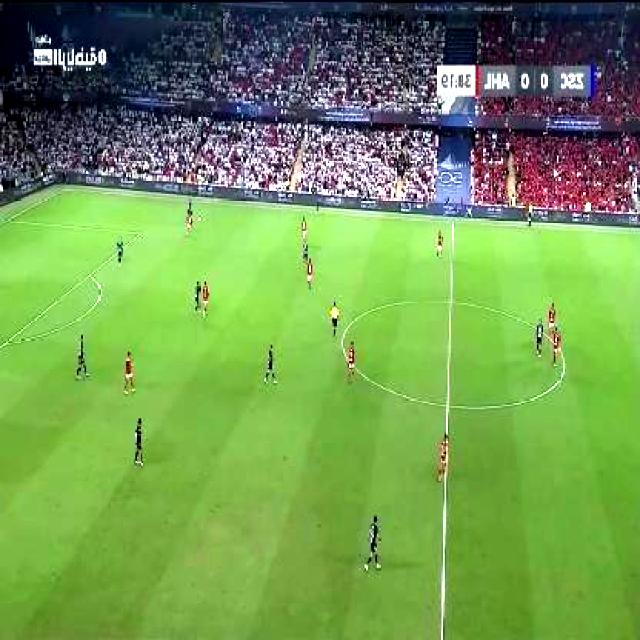bigarea_top_inner: (136, 226, 146, 240)
bigarea_top_outter: (0, 214, 11, 226)
bottom_arc_area_intersection: (0, 332, 12, 350)
corner: (60, 183, 74, 194)
halfcircle_bottom: (440, 391, 460, 418)
halfcircle_top: (442, 289, 462, 314)
midline_top_intersection: (446, 212, 460, 231)
top_arc_area_intersection: (85, 266, 97, 280)
